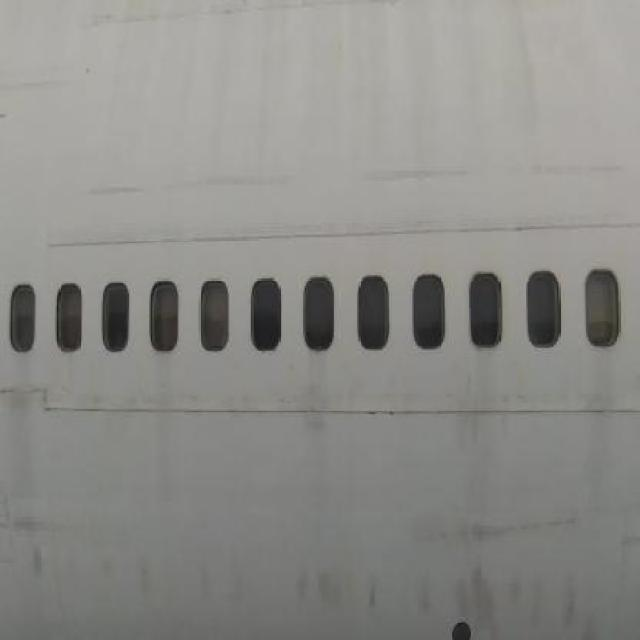Scartch: (409, 561, 640, 639), (76, 157, 304, 208), (410, 506, 593, 554), (283, 549, 389, 626), (353, 150, 482, 208), (505, 147, 629, 198), (99, 543, 166, 623), (11, 507, 74, 590), (194, 549, 252, 631), (614, 520, 640, 558)
